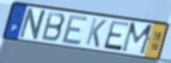B: (40, 10, 67, 43)
E: (60, 14, 90, 46), (102, 20, 131, 53)
K: (84, 17, 108, 49)
M: (119, 21, 156, 56)
N: (17, 7, 49, 42)
